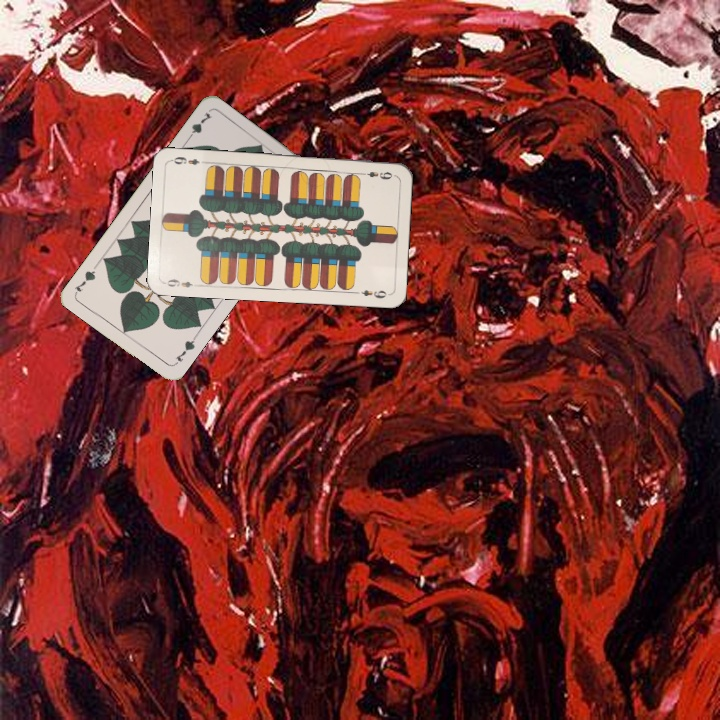E9: (356, 167, 397, 182), (161, 275, 202, 290)
G7: (183, 108, 215, 143), (171, 332, 199, 364)
